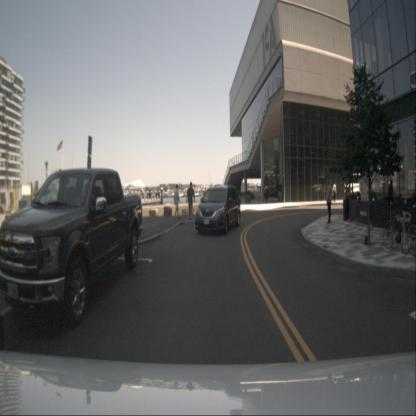human-pedestrian-adult: (186, 181, 196, 220), (173, 184, 181, 220), (326, 178, 332, 224), (263, 183, 268, 203), (278, 180, 282, 202), (332, 181, 336, 202)
vehicle-bicycle: (383, 200, 412, 254), (406, 204, 416, 256)
vehicle-car: (195, 185, 241, 234), (264, 185, 281, 199)
vehicle-truck: (0, 168, 143, 326), (342, 164, 402, 205), (310, 164, 368, 203)
